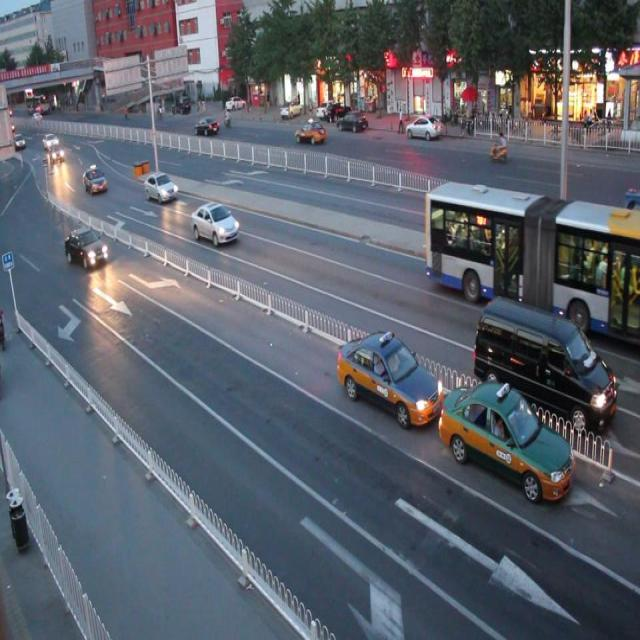car: (438, 376, 572, 502), (335, 330, 440, 426), (190, 200, 238, 246), (64, 226, 109, 269), (145, 170, 179, 203), (294, 121, 326, 144)
truck: (474, 297, 615, 431)
van: (422, 179, 640, 346)
